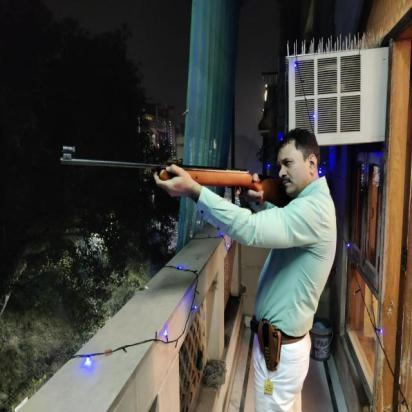Gun: (58, 142, 290, 208)
